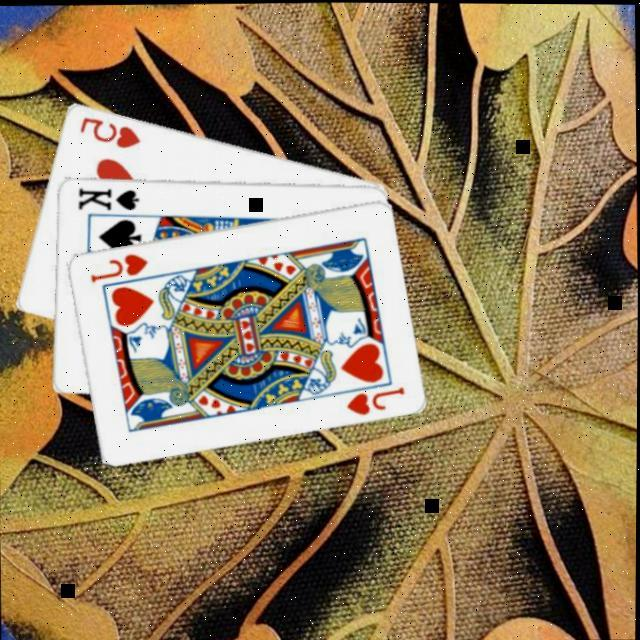5H: (77, 111, 144, 150)
JH: (88, 248, 153, 284), (344, 380, 409, 416)
KS: (76, 181, 144, 212)
